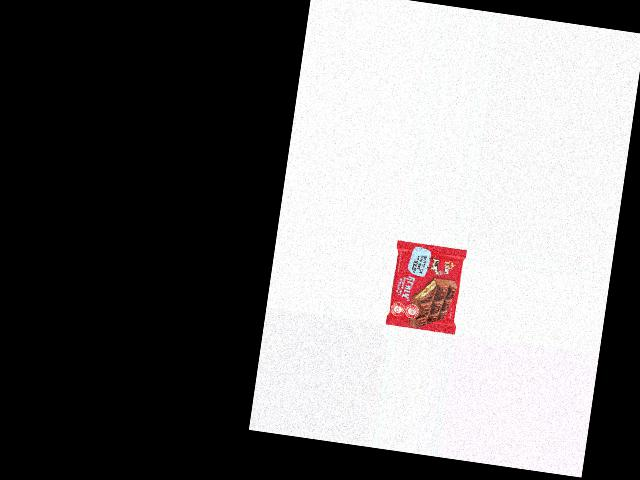chocolate: (384, 242, 465, 333)
